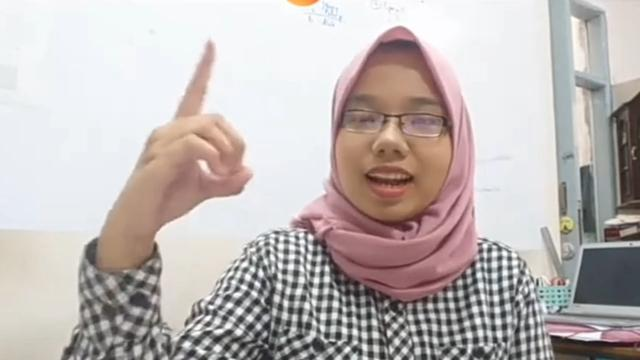D: (114, 34, 252, 229)
